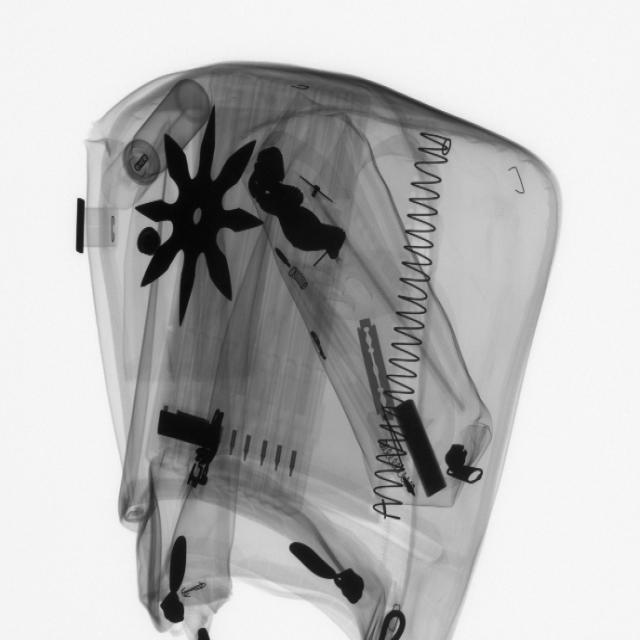BLADE: (355, 314, 400, 436)
SHURIKEN: (134, 108, 264, 332)
